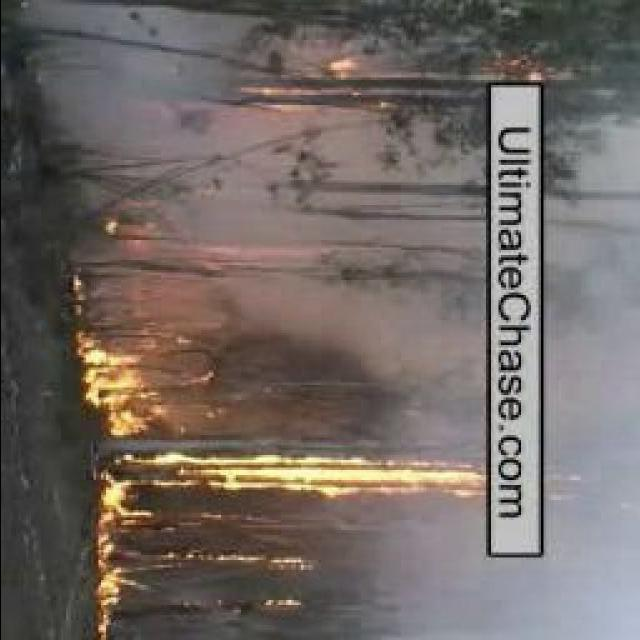Fire: (100, 450, 530, 522), (242, 42, 420, 124), (76, 315, 186, 438), (92, 542, 121, 638), (501, 54, 552, 88)
